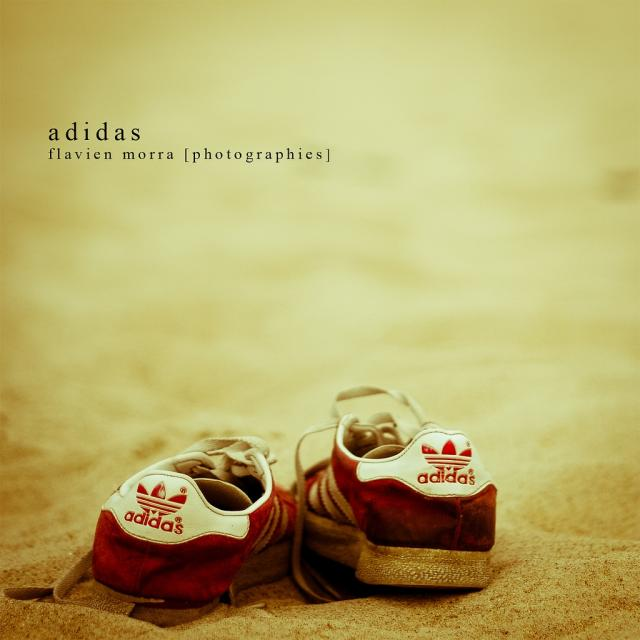adidas: (123, 478, 194, 542), (415, 438, 481, 493)
